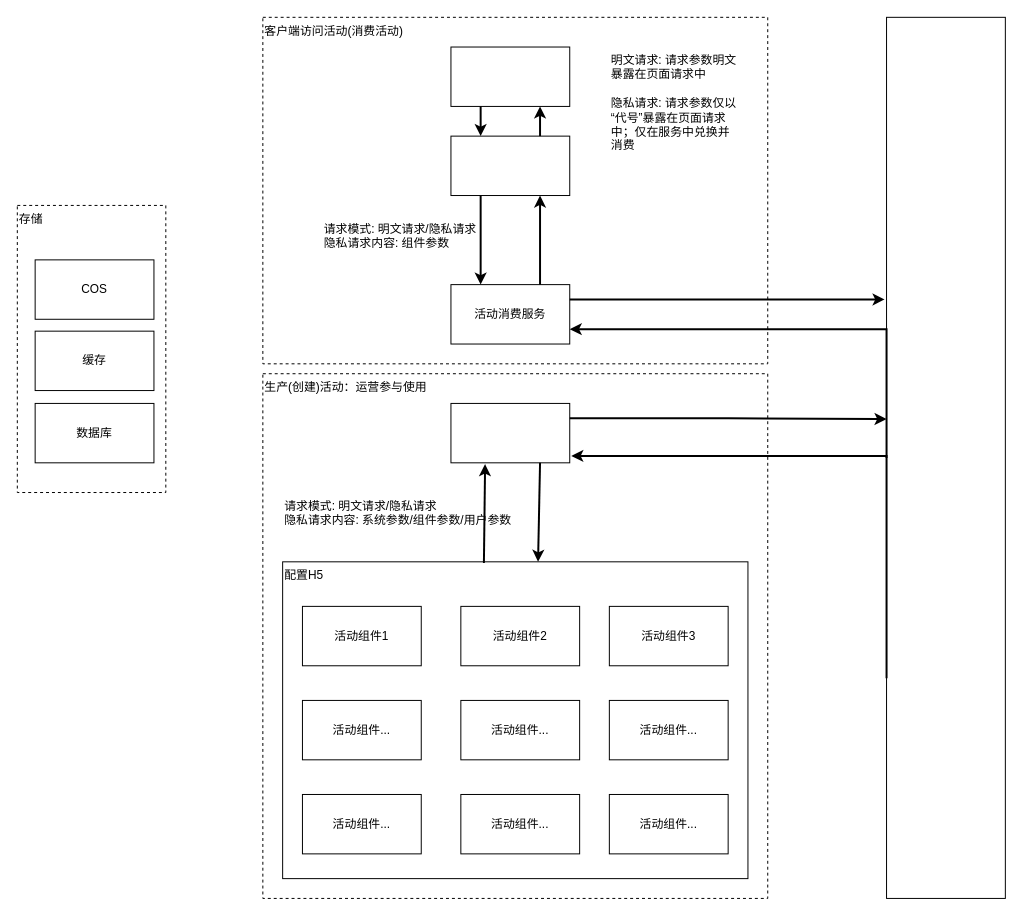
This 1023x916 diagram has some shape labels left out. Here are the shapes that lost their labels. From the top down, the centre of each, then its label:
At (x=510, y=76): "用户终端".
At (x=510, y=165): "活动H5".
At (x=510, y=432): "活动生产(创建)服务".
At (x=945, y=457): "业务服务...".
